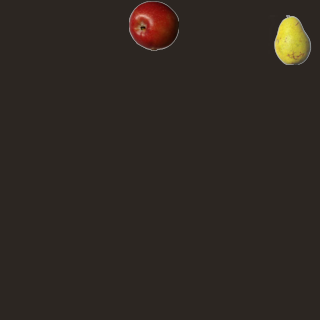Apple Braeburn: (128, 0, 178, 50)
Pear Monster: (267, 14, 317, 64)
